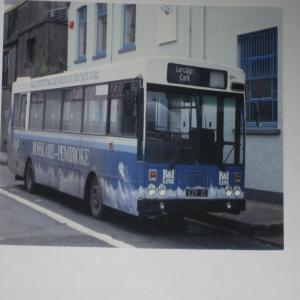Vehicle-registration-plate: (188, 190, 209, 198)
